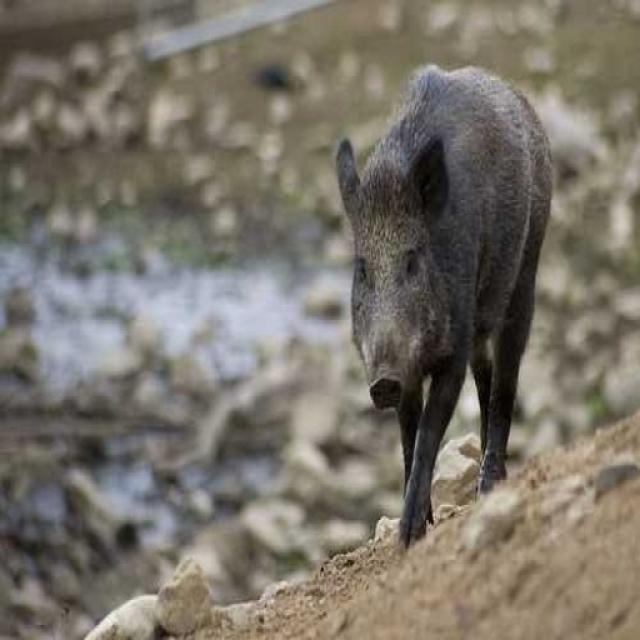pig: (324, 46, 576, 520)
